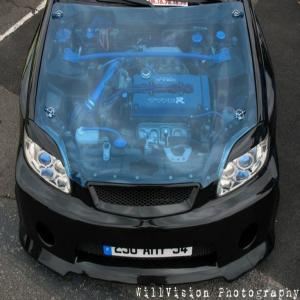Vehicle-registration-plate: (104, 247, 193, 261)
